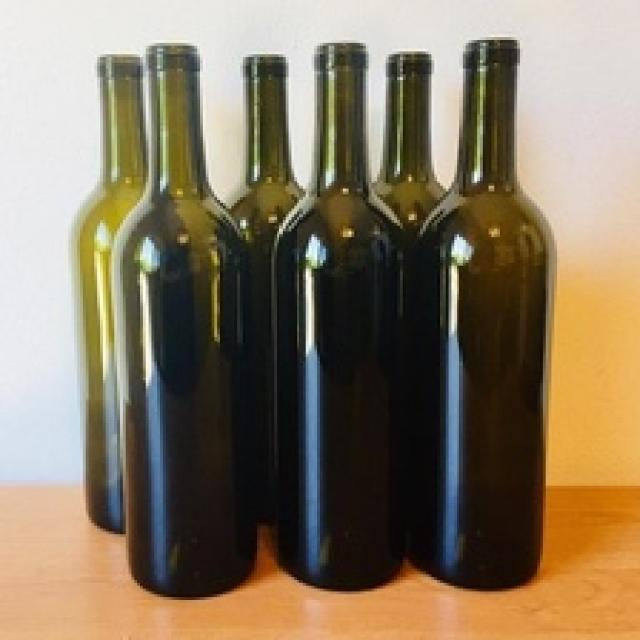glass: (411, 39, 557, 593), (268, 42, 412, 590), (123, 42, 250, 601), (228, 48, 308, 533), (71, 53, 147, 534), (367, 49, 453, 230)
